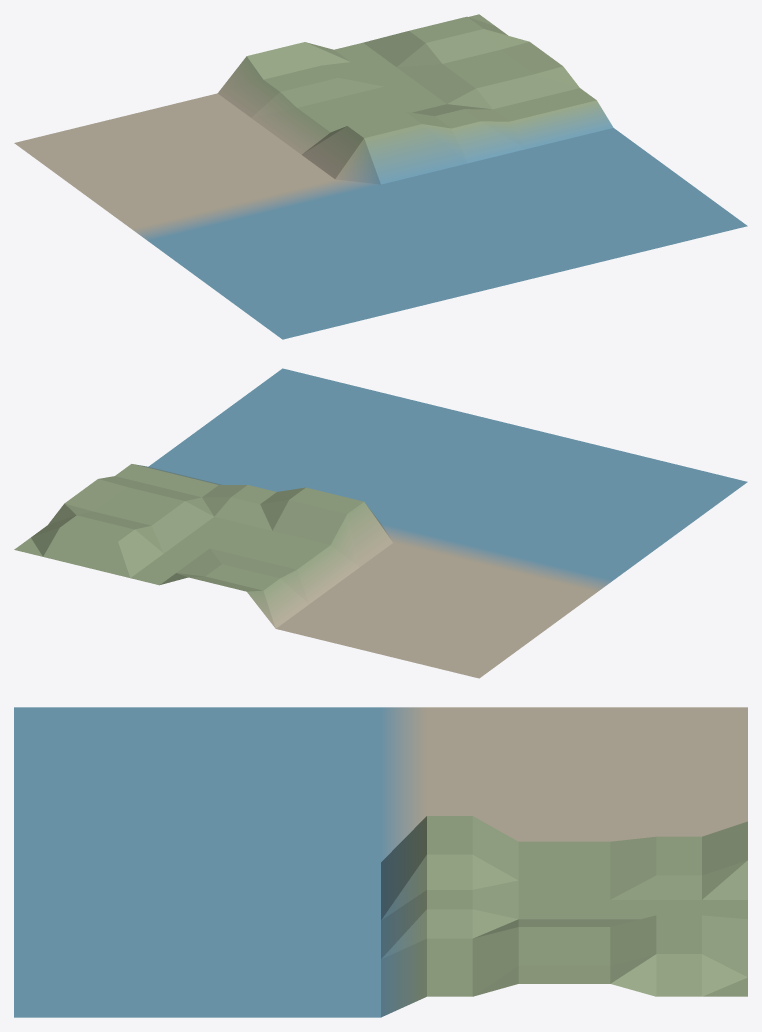
3 views of the same model, one above another, from view 1: azimuth 30°, elevation 25°; view 2: azimuth 150°, elevation 25°; view 3: azimuth 270°, elevation 25° (orthographic). The views are drawn at different scales.
Size of the model in its own units: 32 by 2.24 by 32.
